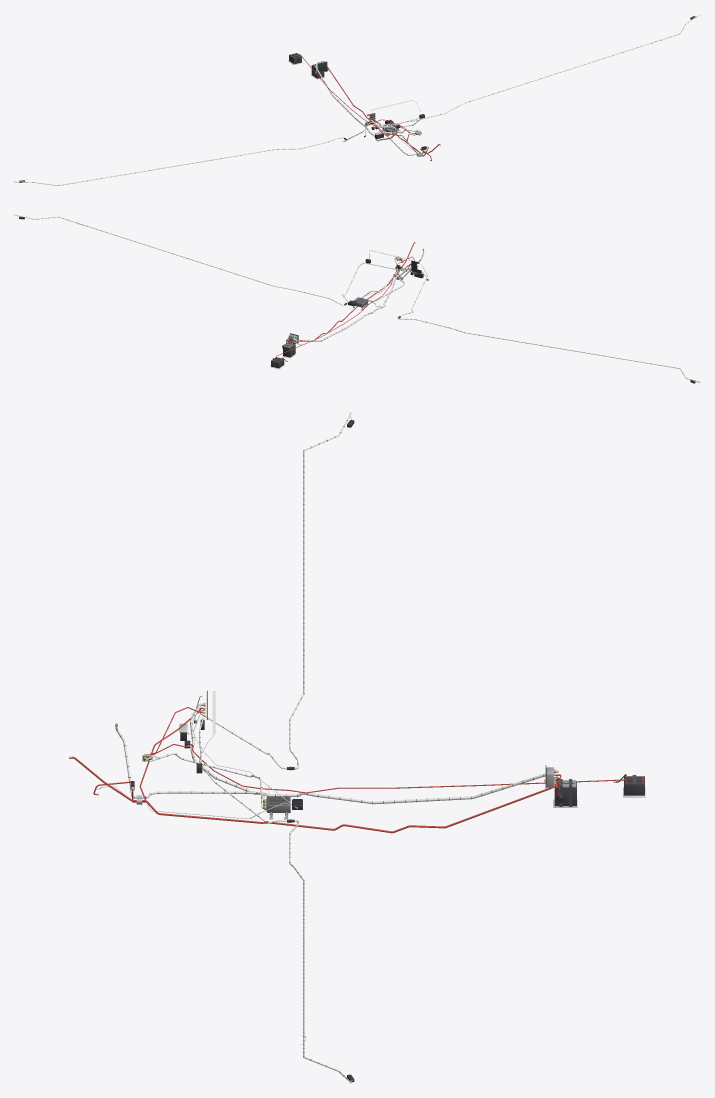
Rendered from da40-electrical.glb.
3 renders of one model, top to bottom at view 1: azimuth 30°, elevation 25°; view 2: azimuth 150°, elevation 25°; view 3: azimuth 270°, elevation 25°, orthographic. The views are drawn at different scales.
Visible parts, largest first — view 1: Wing lighting harness RH (wing side), Wing lighting harness LH (wing side), Main wiring harness (relay junction box → circuit-breaker pa; view 2: Wing lighting harness LH (wing side), Wing lighting harness RH (wing side), Main wiring harness (relay junction box → circuit-breaker pa; view 3: Main wiring harness (relay junction box → circuit-breaker pa, Starter cable (relay junction box → starter relay).
Part boxes in pixels (left/top/right/bottom): Wing lighting harness RH (wing side): left=14, top=137, right=343, bottom=185; Wing lighting harness LH (wing side): left=397, top=14, right=700, bottom=124; Main wiring harness (relay junction box → circuit-breaker pa: left=315, top=62, right=396, bottom=141; Wing lighting harness LH (wing side): left=14, top=214, right=344, bottom=305; Wing lighting harness RH (wing side): left=397, top=318, right=700, bottom=382; Main wiring harness (relay junction box → circuit-breaker pa: left=293, top=265, right=418, bottom=341; Main wiring harness (relay junction box → circuit-breaker pa: left=190, top=703, right=558, bottom=804; Starter cable (relay junction box → starter relay): left=69, top=756, right=557, bottom=833.
Size of the model in its own units: 11.48 by 0.8126 by 4.18.
